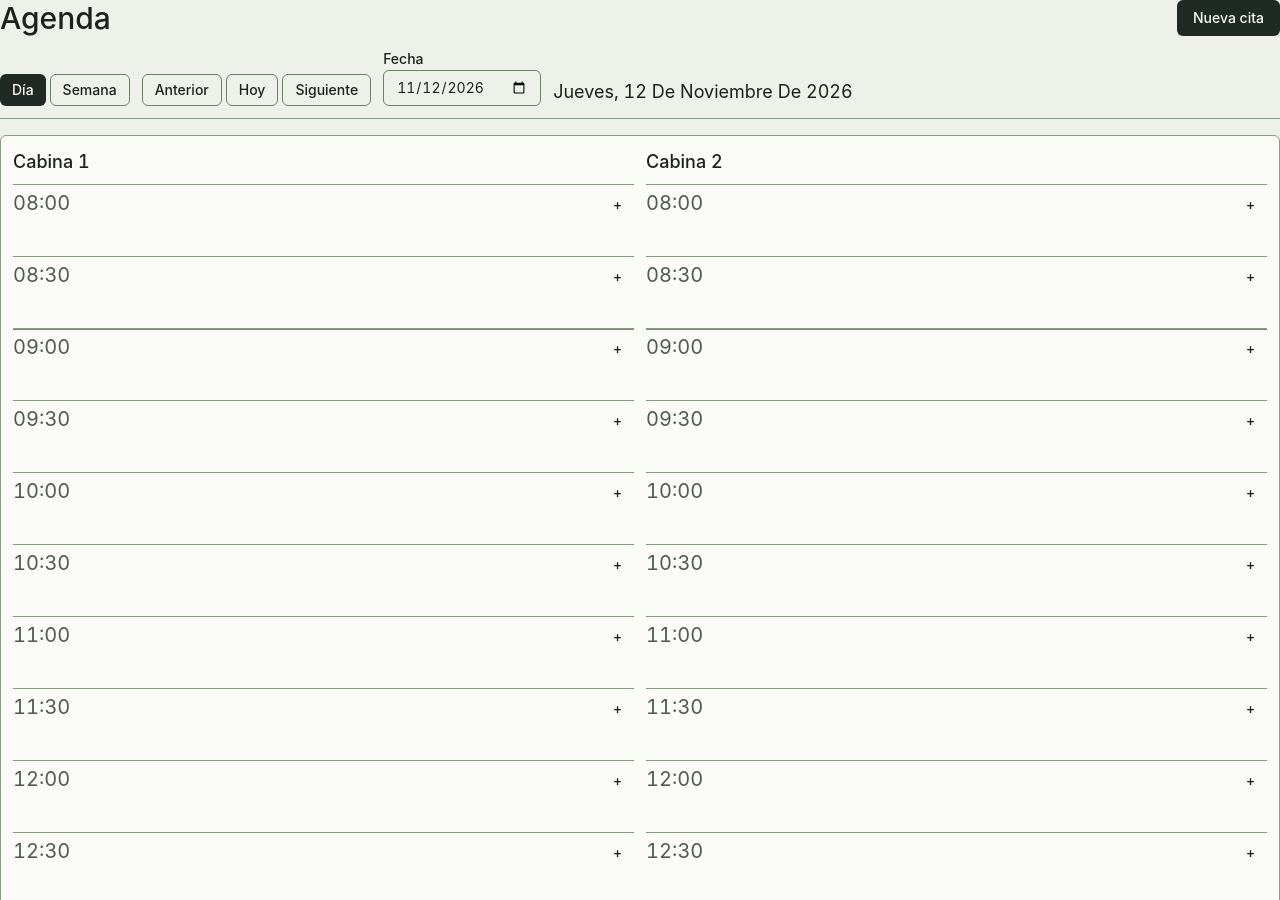
AppointmentsPage › muestra el solape devuelto por el api sin cerrar el formulario
The width and height of the screenshot is (1280, 900).
Click the button "Siguiente" at (327, 90), box [282,74,371,106]
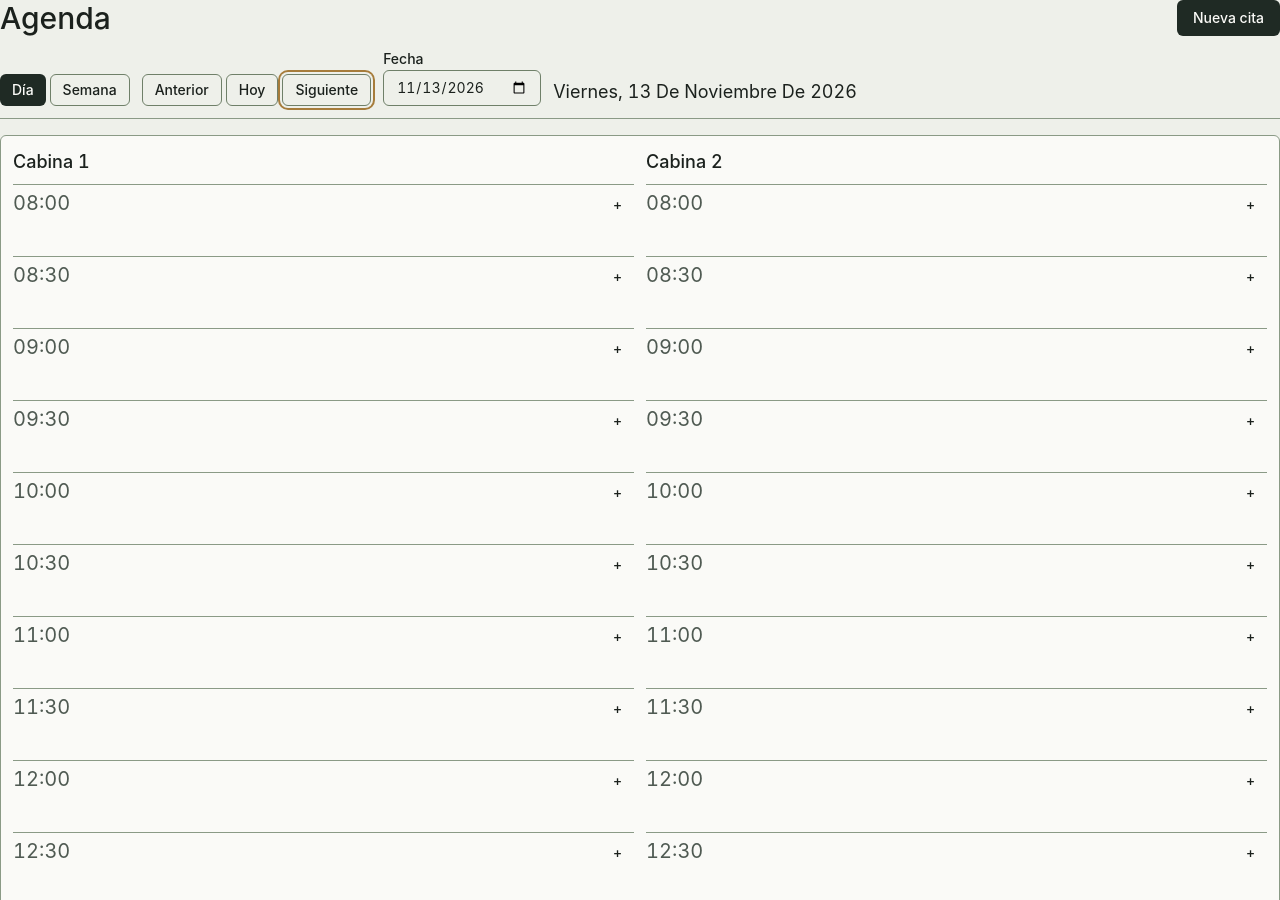
Click the button "Nueva cita" at (1228, 18), box [1177,0,1279,36]
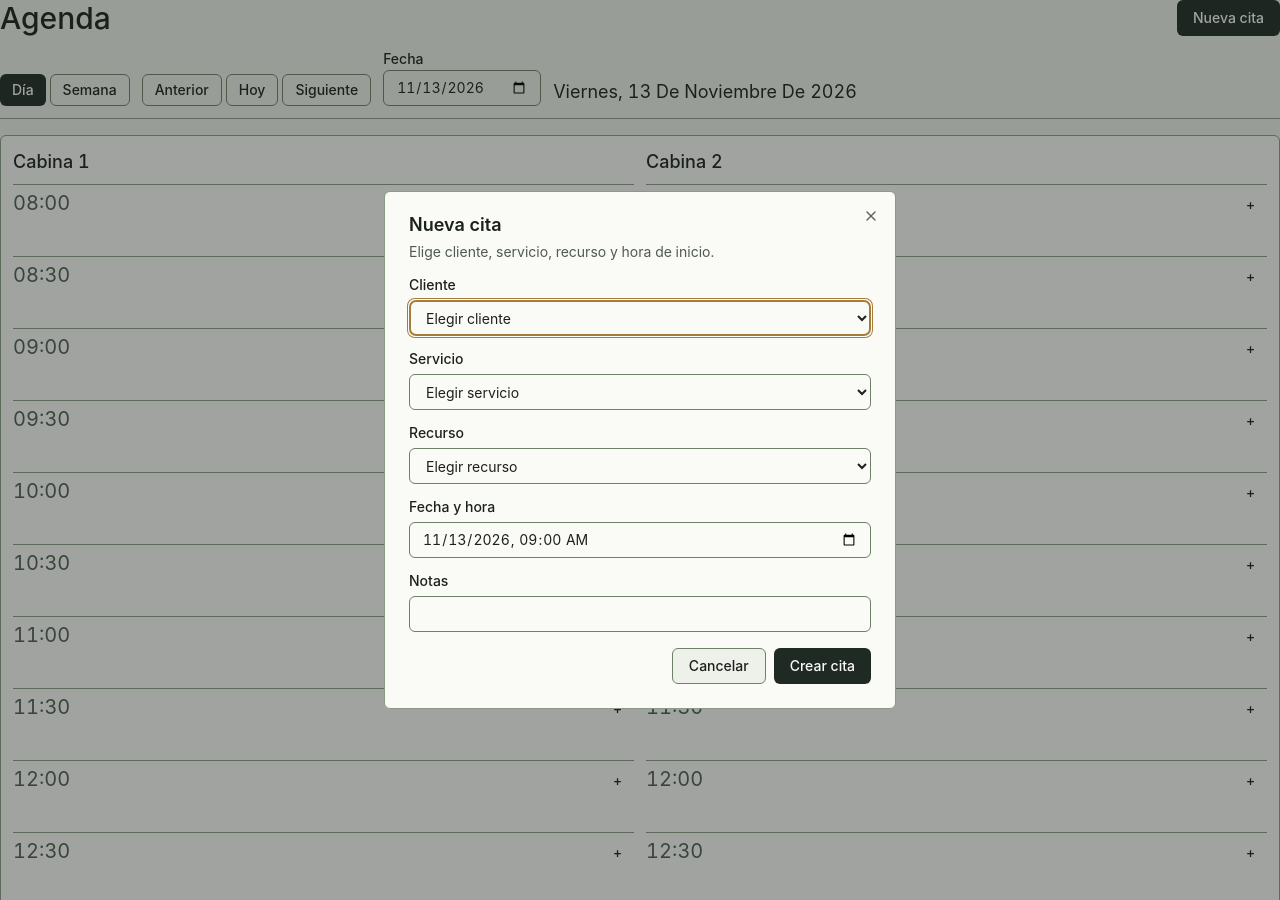
Select "María González" in the dropdown labelled "Cliente" at (640, 318), box [409,300,871,336]
Select "Limpieza facial (ejemplo)" in the dropdown labelled "Servicio" at (640, 392), box [409,374,871,410]
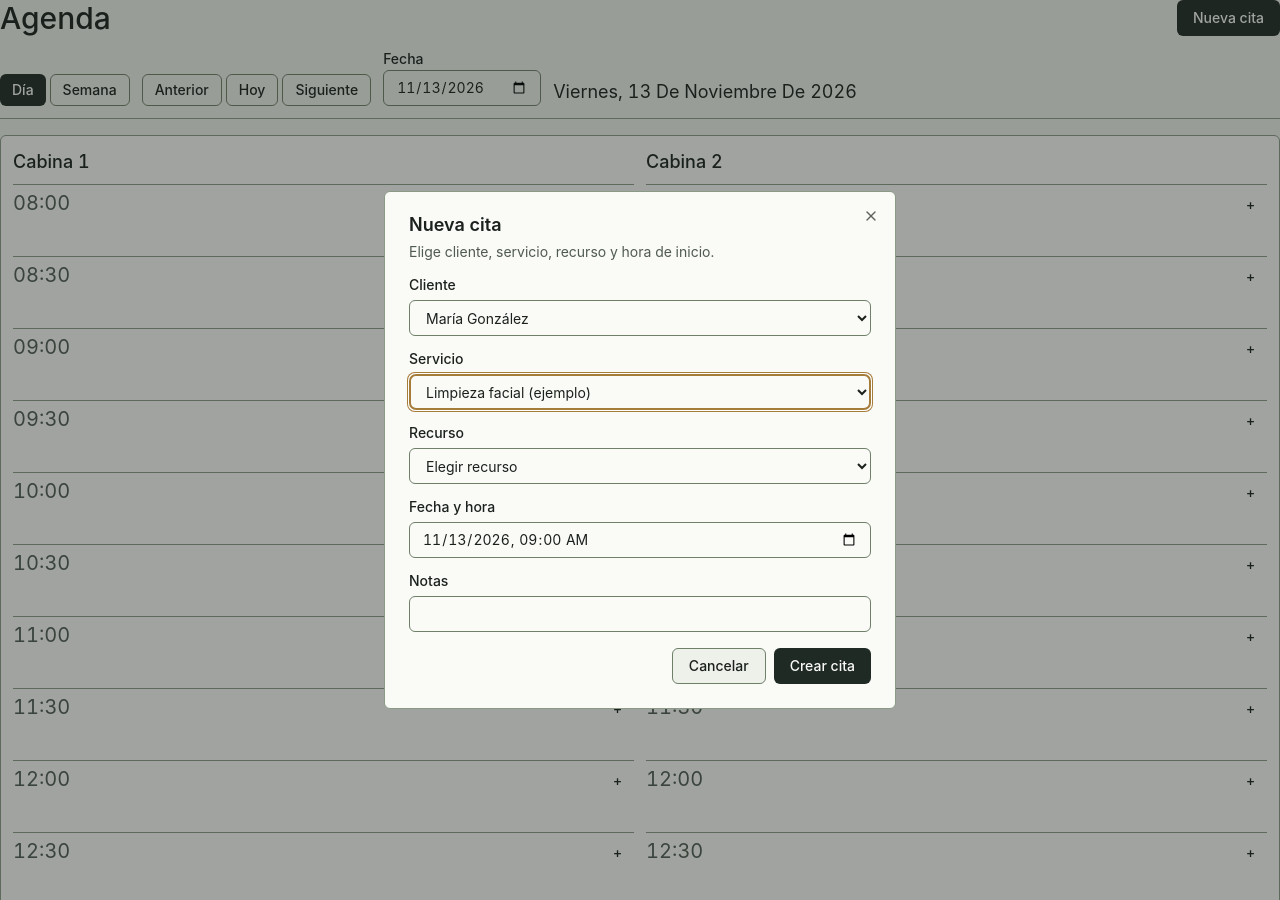
Select "Cabina 1" in the dropdown labelled "Recurso" at (640, 466), box [409,448,871,484]
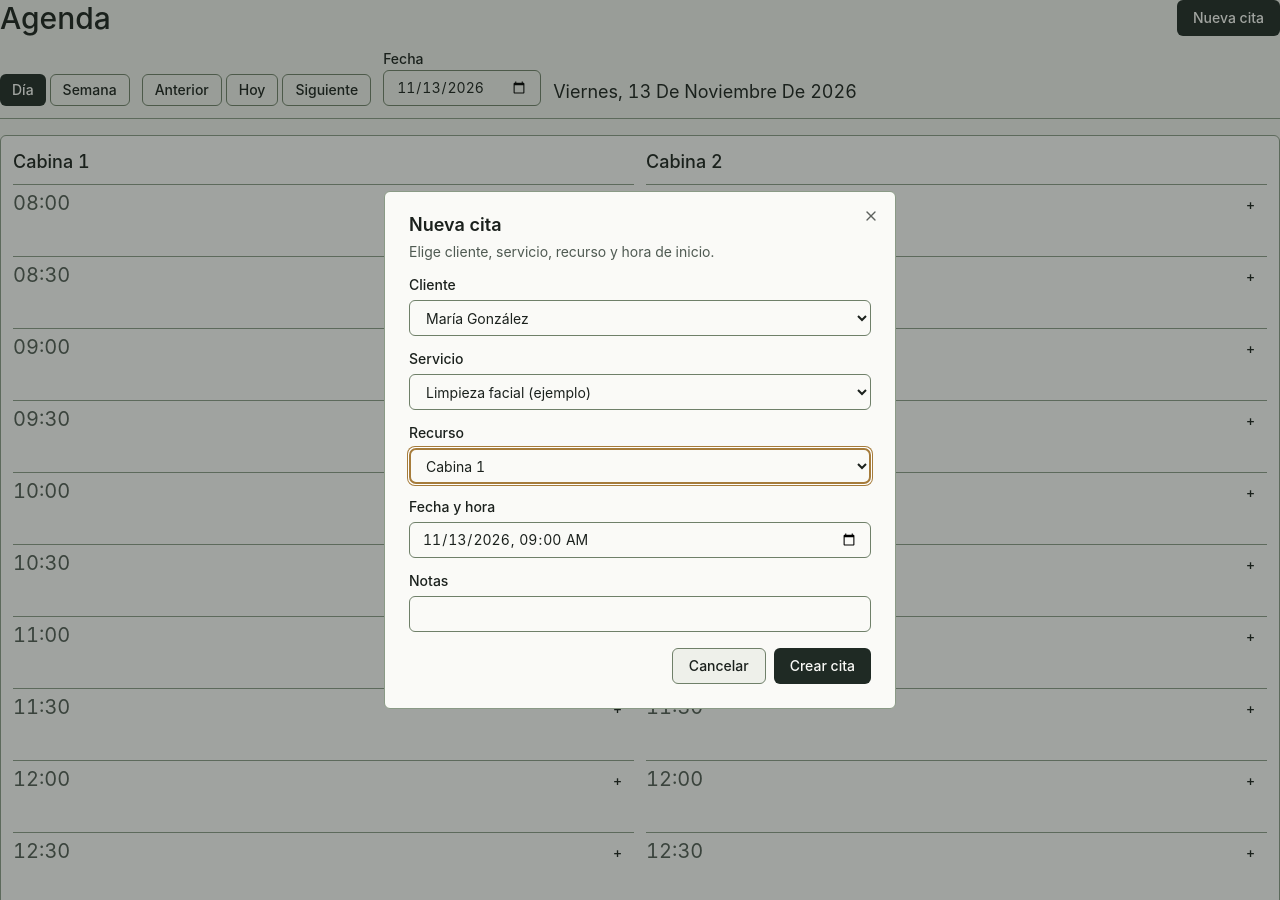
Replace the text in the field labelled "Fecha y hora" with "2026-11-13T16:30" at (640, 540), box [409,522,871,558]
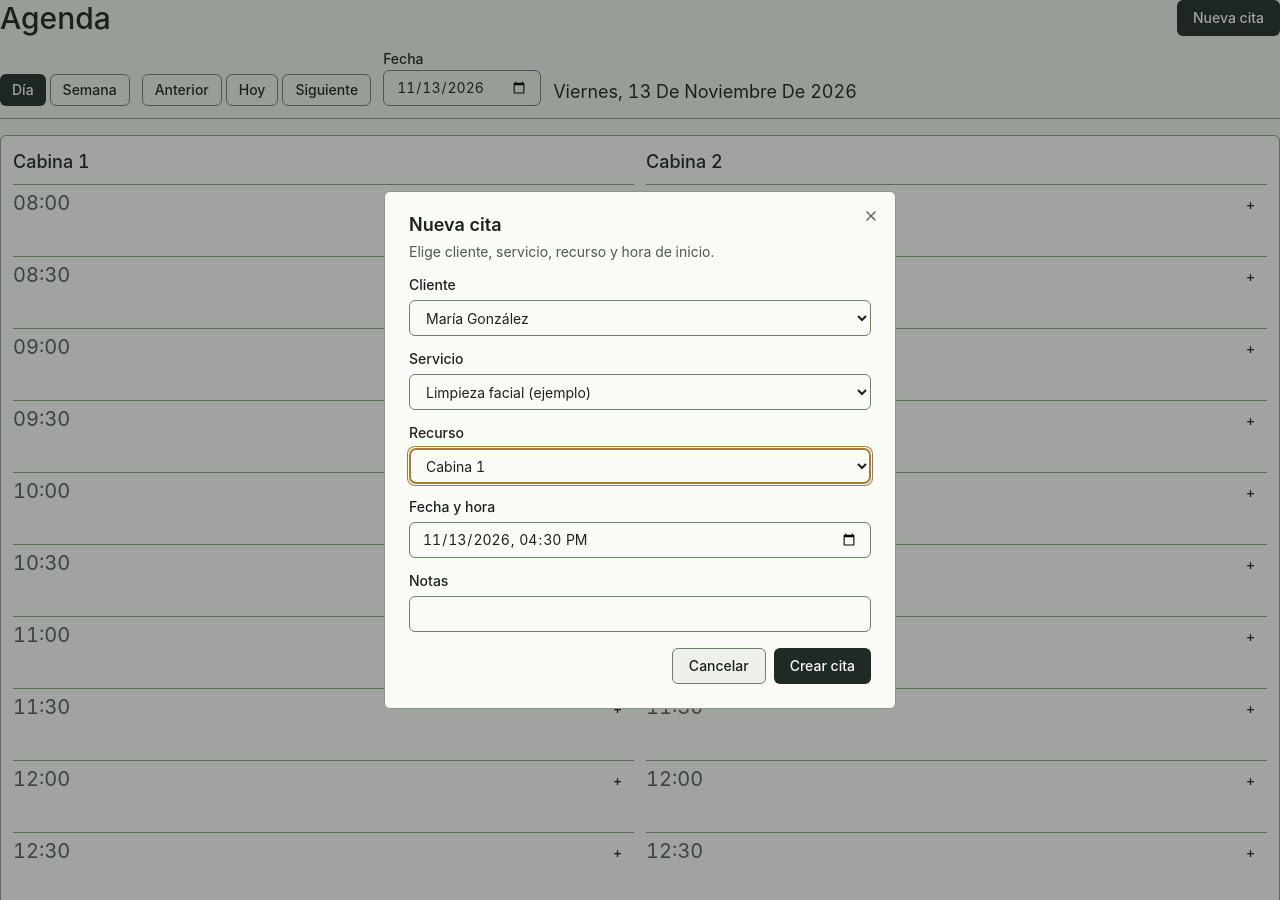
Click the button "Crear cita" at (822, 666), box [774,648,871,684]
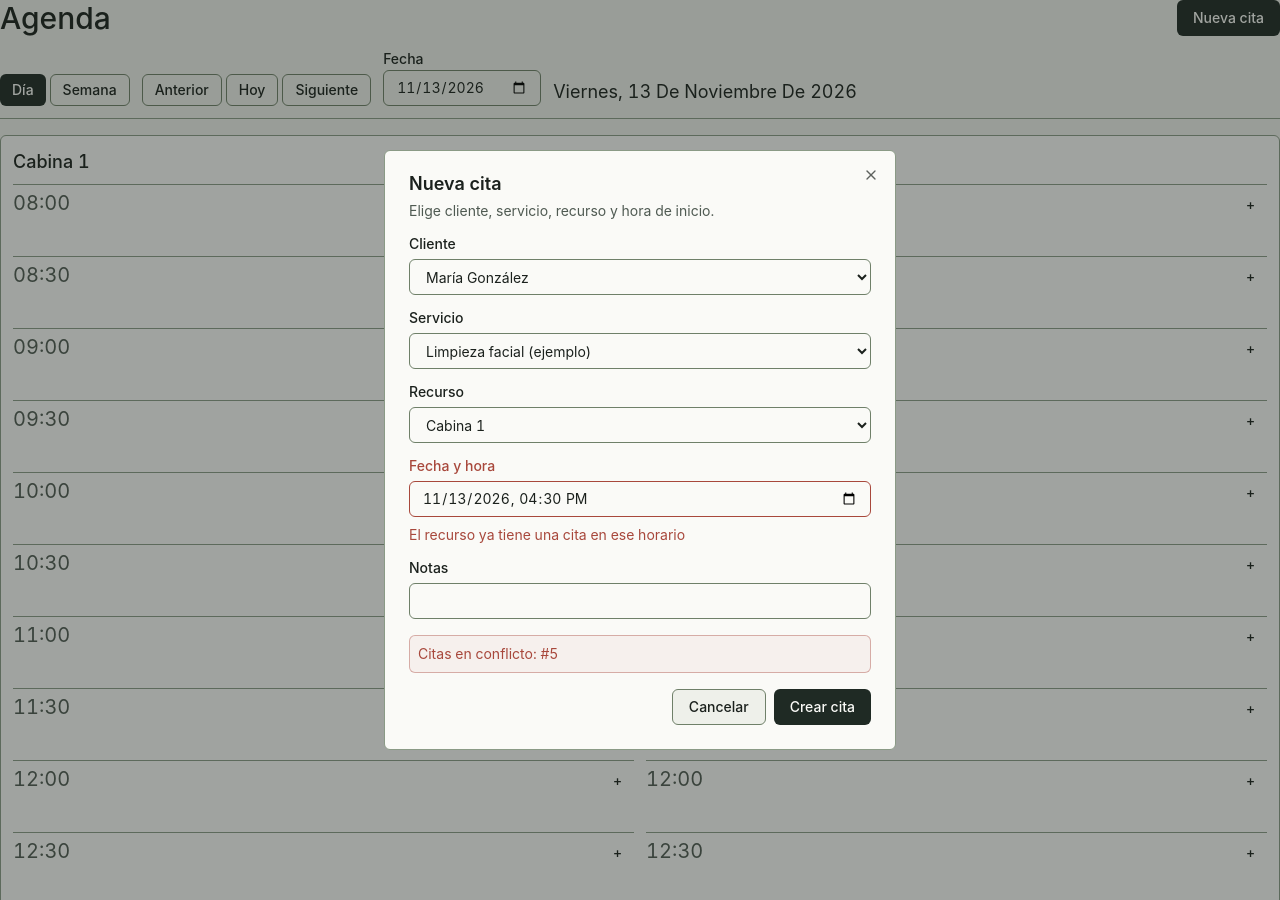
Expected: the text "El recurso ya tiene una cita en ese horario" is shown, [409,526,685,543]
Expected: the message reads "Citas en conflicto: #5", [418,645,558,662]
